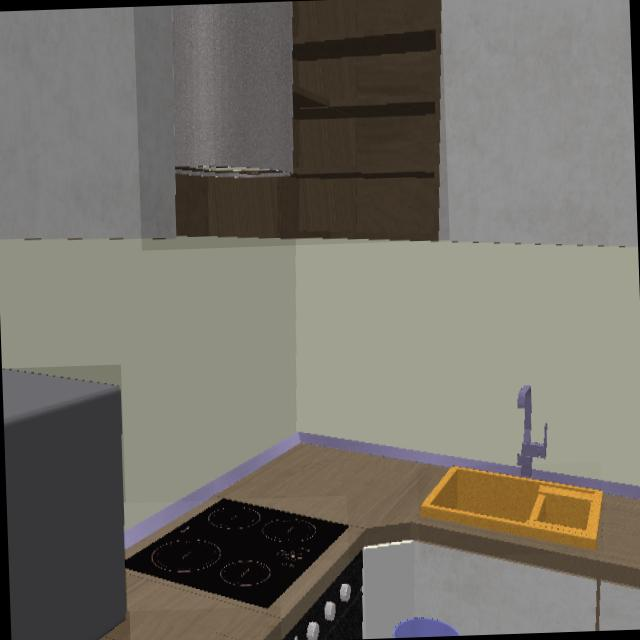microwave: (1, 368, 127, 640)
oven: (283, 559, 363, 640)
shelf: (140, 0, 441, 240)
sink: (418, 466, 601, 552)
stove: (125, 500, 347, 606)
